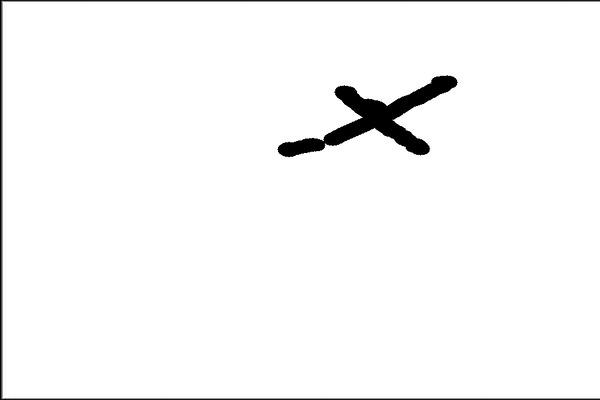X: (269, 51, 463, 209)
